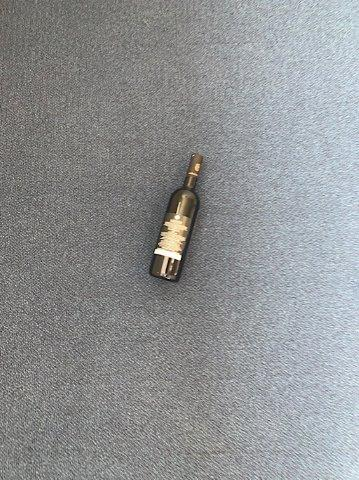botolkaca: (148, 154, 206, 282)
